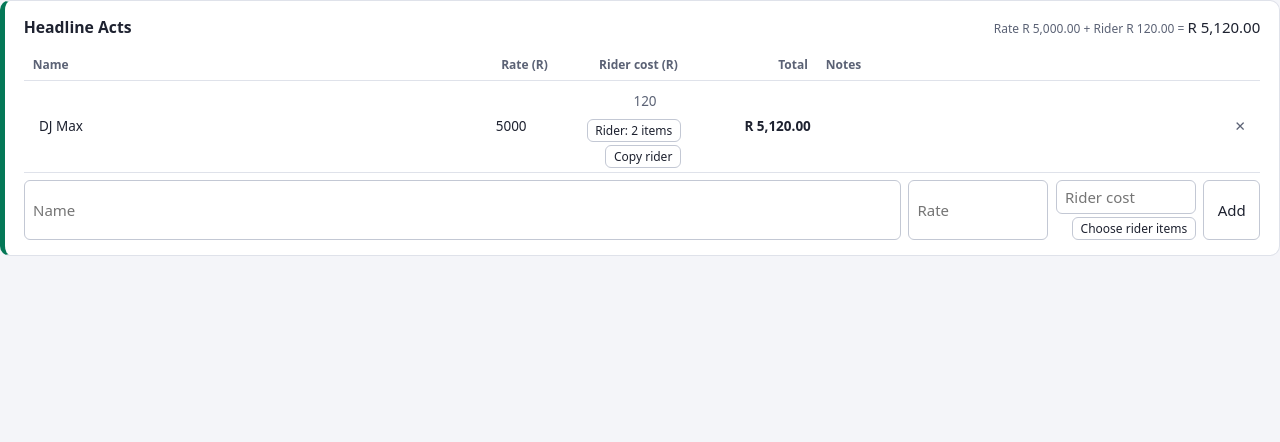
Test: Copy rider on a line › is offered on a booking that has a rider, and opens and closes the panel
Click the button with aria-label "Copy rider of DJ Max": (643, 156) top-left (606, 144), bottom-right (681, 168)
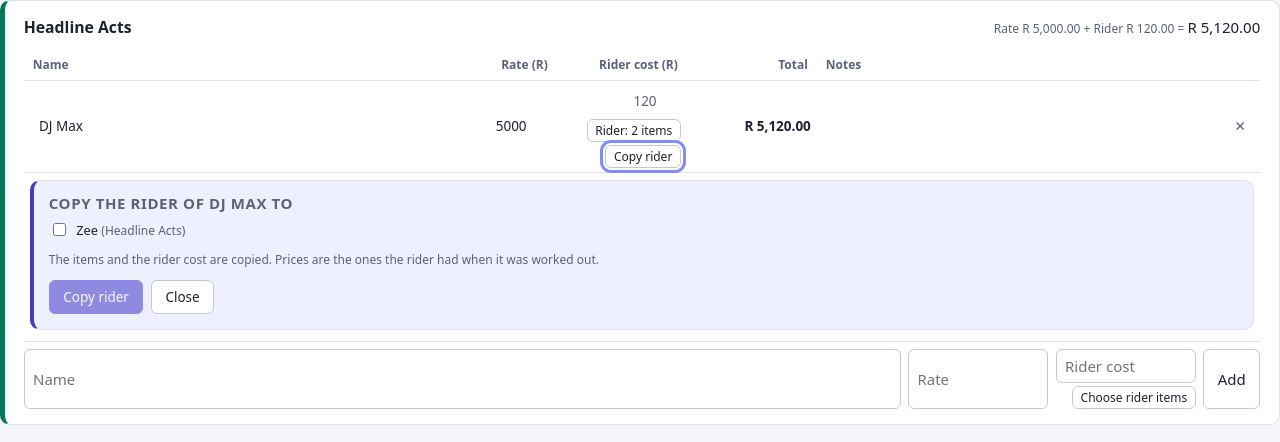
Expected: the button with aria-label "Copy rider of DJ Max" is expanded
Expected: the element "Copy the rider of DJ Max" is shown, top-left (30, 180), bottom-right (1254, 330)
Click the button with aria-label "Copy rider of DJ Max": (643, 156) top-left (606, 144), bottom-right (681, 168)
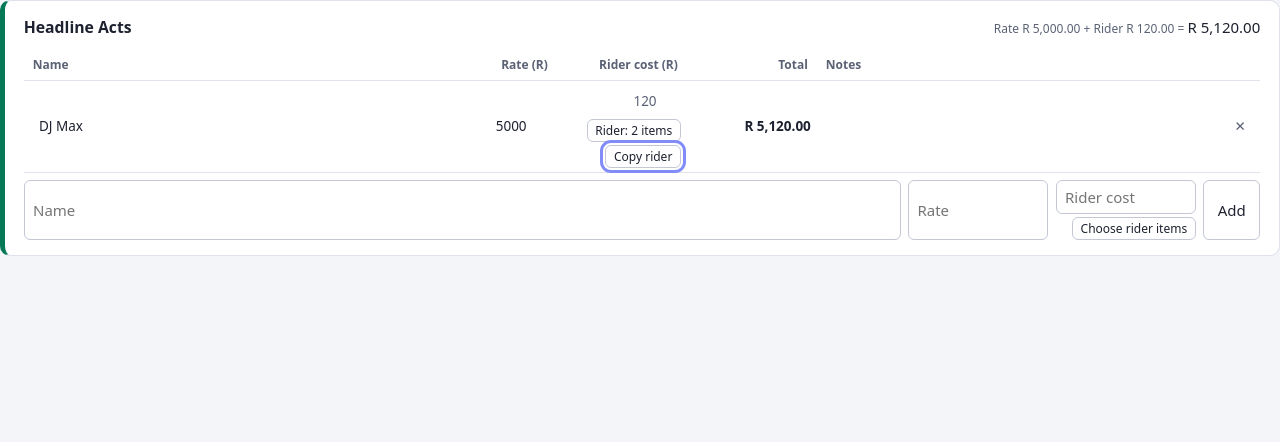
Expected: the heading "Copy the rider of DJ Max" is gone
